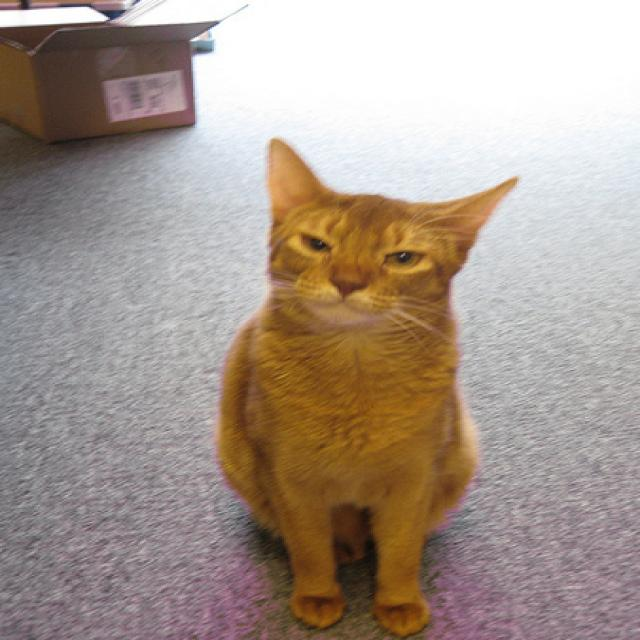Abyssinian: (210, 132, 529, 634)
